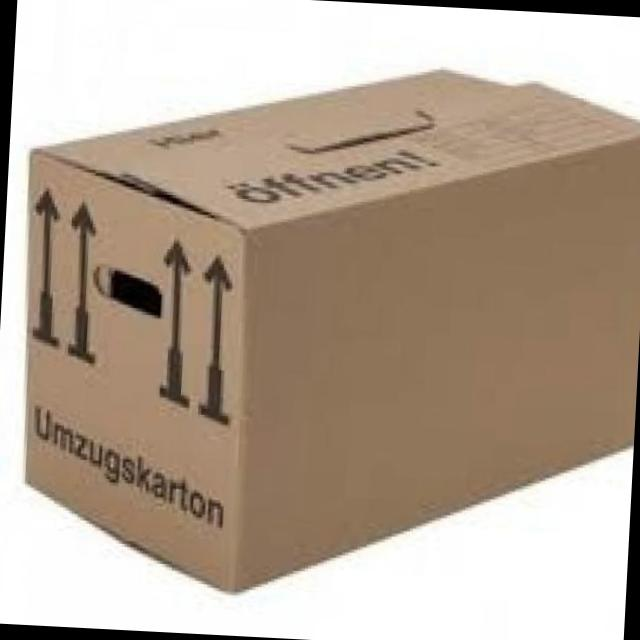cardboard paper: (24, 69, 640, 587)
